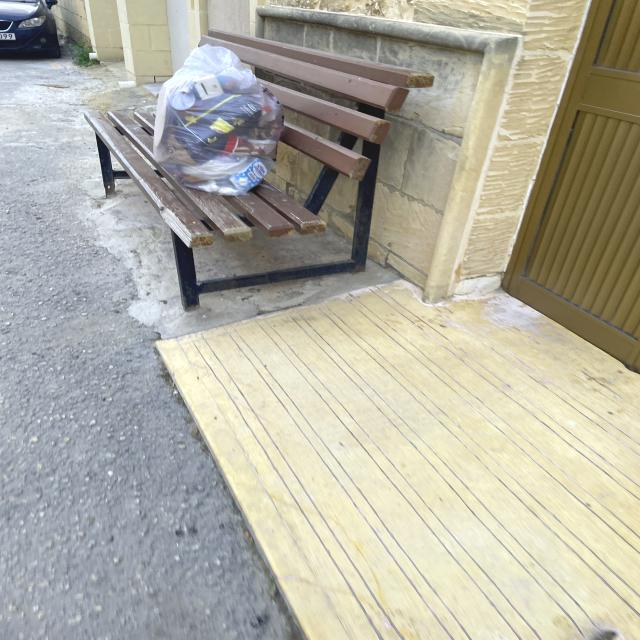grey_bag: (149, 42, 291, 200)
